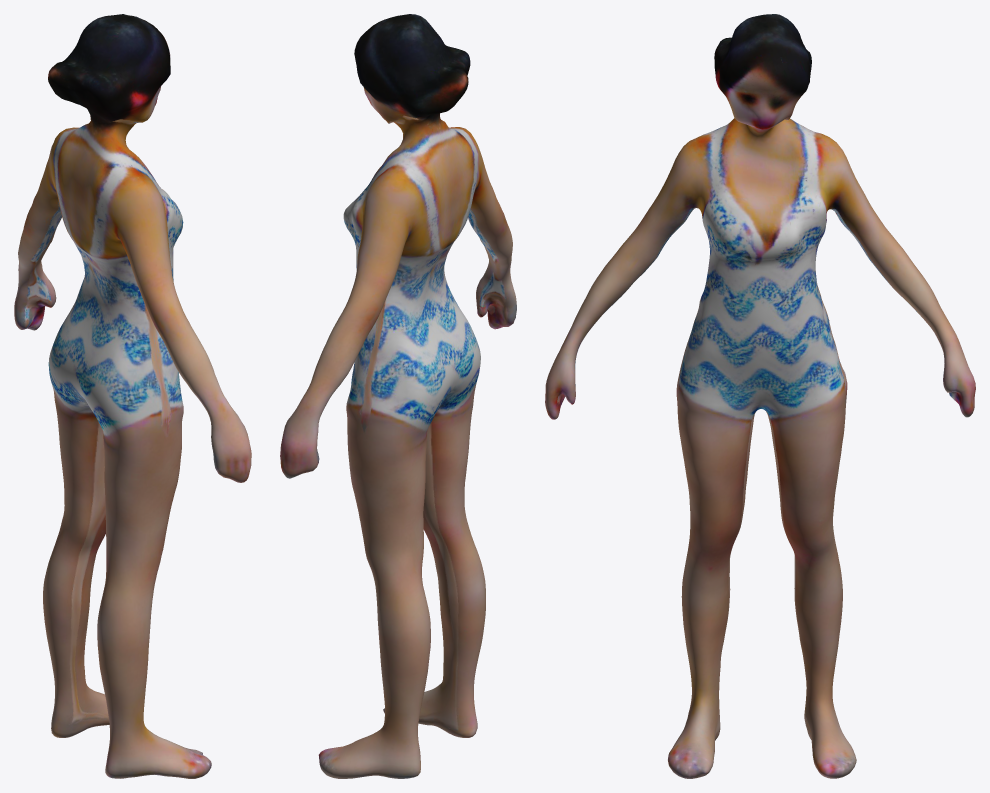
The model's file is 544813ea7f9c_Beach_Da_Nang_White.obj.
3 renders of one model, left to right at view 1: azimuth 30°, elevation 25°; view 2: azimuth 150°, elevation 25°; view 3: azimuth 270°, elevation 25°, orthographic.
Visible parts, largest first — view 1: mesh; view 2: mesh; view 3: mesh.
Boxes of the visible parts, x1,y1,x2,y2 form: mesh: [14, 14, 251, 778]; mesh: [280, 14, 516, 778]; mesh: [545, 14, 975, 778].
Bounding box in the file's own units: 0.17 × 0.9993 × 0.5277.
Materials: 1 (1 with a texture image).
